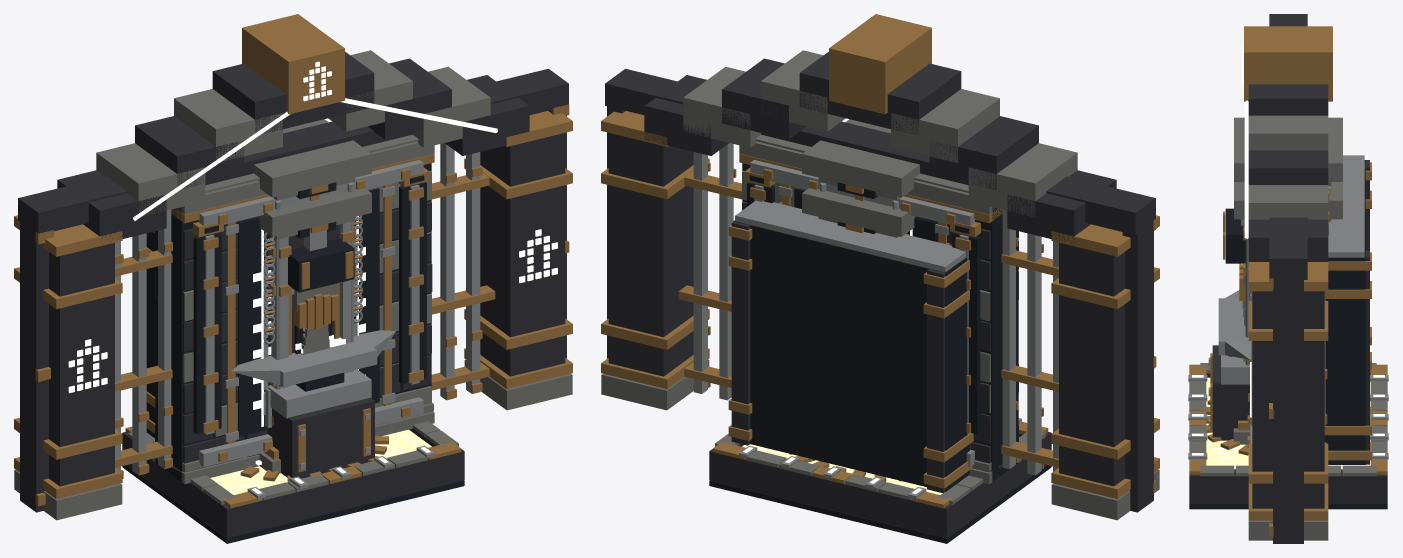
The model's file is emberfall-kit.glb.
3 views of the same model, side by side, from view 1: azimuth 30°, elevation 25°; view 2: azimuth 150°, elevation 25°; view 3: azimuth 270°, elevation 25° (orthographic). The views are drawn at different scales.
Parts seen in each view (by area): view 1: arch-stone, alcove-stone, landmark-stone, gate-leaf, gate-stone, pool-stone, guardian-stone, pillar-stone, wall-stone, arch-glow, pool-water, alcove-glow (+2 smaller); view 2: arch-stone, landmark-stone, gate-leaf, alcove-stone, gate-stone, pool-stone, pillar-stone, guardian-stone, wall-stone; view 3: arch-stone, landmark-stone, gate-stone, pool-stone, pillar-stone, guardian-stone, pool-water, arch-glow, alcove-stone, checkpoint-stone, pool-glow.
Boxes of the visible parts, x1,y1,x2,y2 form: arch-stone: (14,14,572,520); alcove-stone: (152,134,434,484); landmark-stone: (146,215,395,478); gate-leaf: (115,143,495,478); gate-stone: (18,68,569,512); pool-stone: (122,421,464,543); guardian-stone: (258,188,371,473); pillar-stone: (254,119,371,388); wall-stone: (155,170,432,446); arch-glow: (68,61,557,393); pool-water: (210,429,431,494); alcove-glow: (253,247,365,409); arch-stone: (601,14,1159,520); landmark-stone: (728,200,973,492); gate-leaf: (678,143,1058,475); alcove-stone: (739,134,1021,484); gate-stone: (605,68,1156,512); pool-stone: (709,418,1051,543); pillar-stone: (802,119,919,209); guardian-stone: (802,188,915,237); wall-stone: (742,170,1018,471); arch-stone: (1244,26,1332,540); landmark-stone: (1208,155,1371,464); gate-stone: (1269,14,1307,543); pool-stone: (1188,363,1388,509); pillar-stone: (1234,117,1342,365); guardian-stone: (1233,182,1342,444); pool-water: (1206,377,1370,469); arch-glow: (1242,44,1251,417); alcove-stone: (1247,190,1329,447); checkpoint-stone: (1200,399,1376,455); pool-glow: (1192,375,1384,467).
Size of the model in its own units: 8.49 by 6.7 by 2.93.
